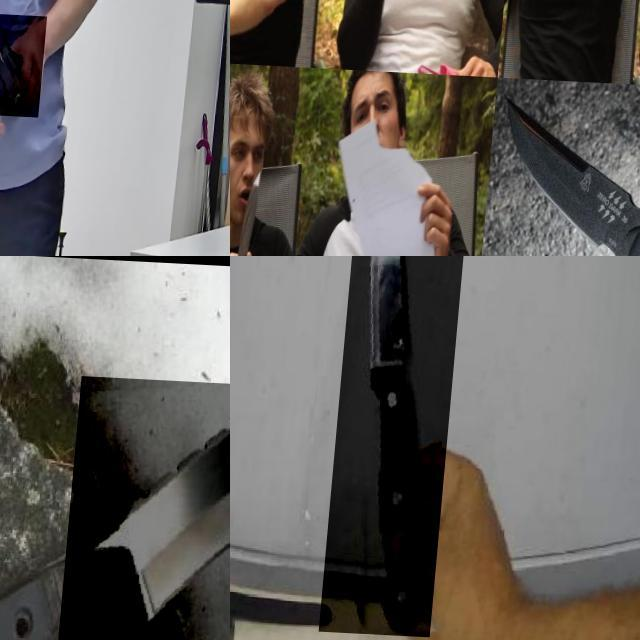-: (330, 256, 480, 634), (64, 372, 230, 640), (492, 84, 640, 256), (361, 0, 437, 59), (230, 163, 273, 256)
gun-knife-thesis - v11 Yolov5 augmented: (0, 9, 51, 113)
